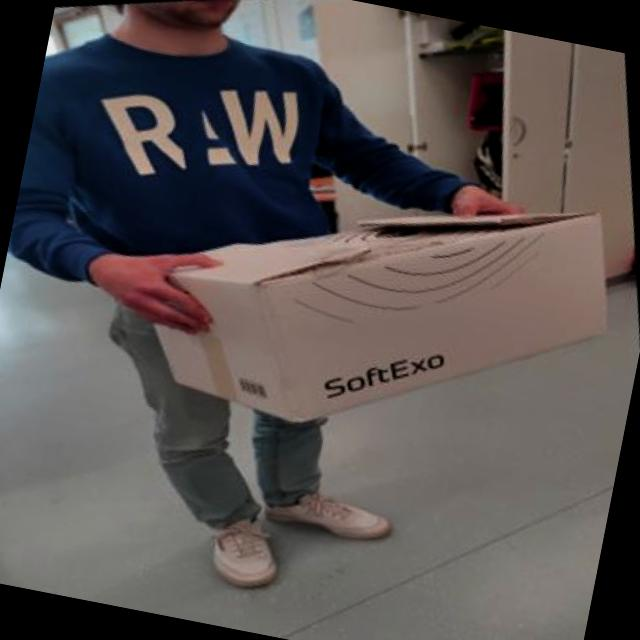box: (100, 111, 640, 520)
